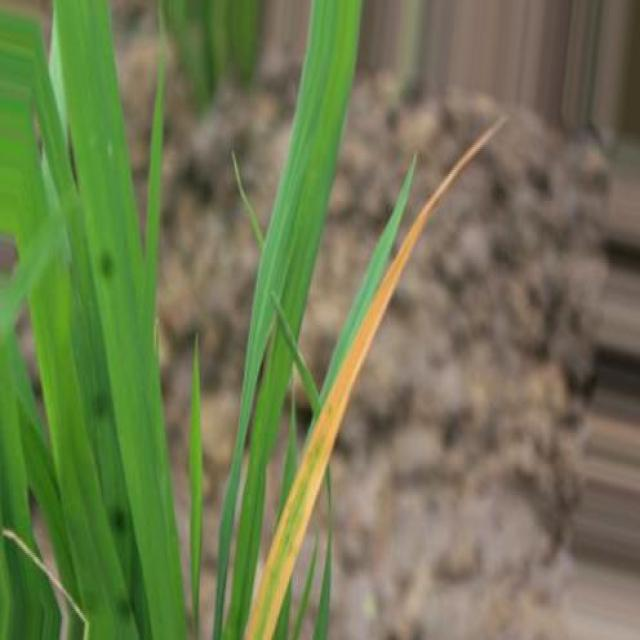Rice Tungro: (245, 116, 504, 639)
